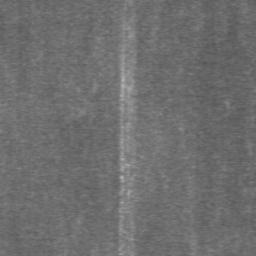Bright scratch: (118, 0, 137, 256)
